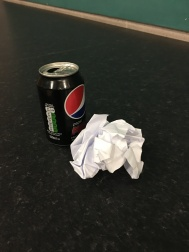can_black: (24, 52, 90, 149)
paper_white: (70, 111, 151, 188)
